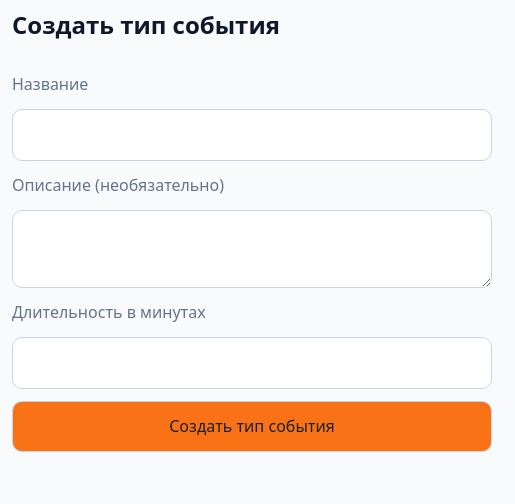
Test: handles failure 400 without confirmation or automatic retry, retaining input for a manual retry
The image size is (515, 504).
Type "Звонок" into the field labelled "Название" at (252, 135), box [12, 109, 492, 161]
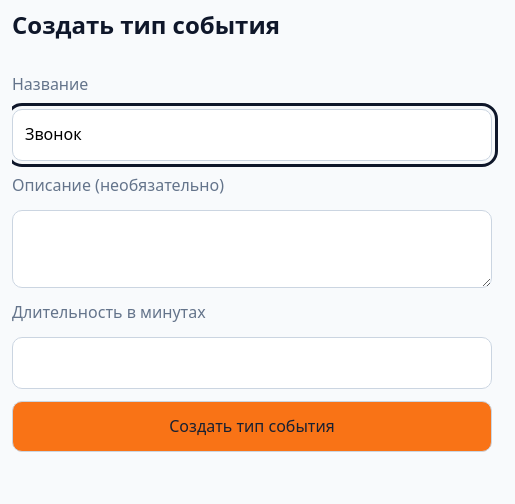
Type "Описание" into the text box labelled "Описание (необязательно)" at (252, 249), box [12, 210, 492, 288]
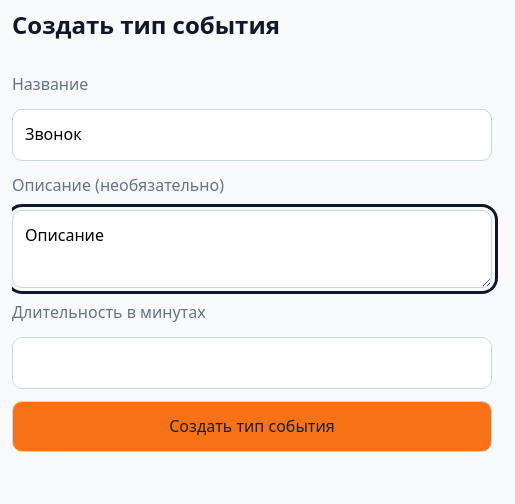
Type "30" into the number field labelled "Длительность в минутах" at (252, 363), box [12, 337, 492, 389]
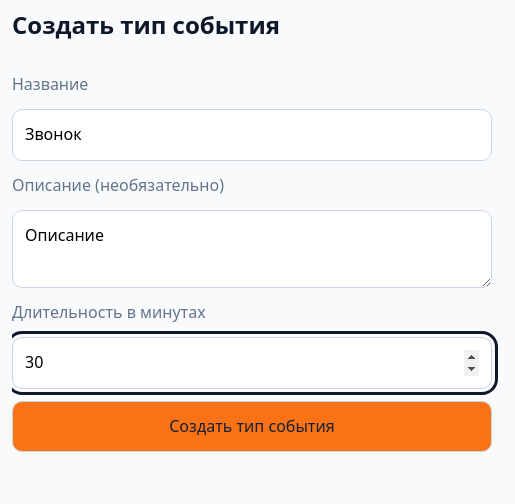
Click the button "Создать тип события" at (252, 427), box [12, 401, 492, 452]
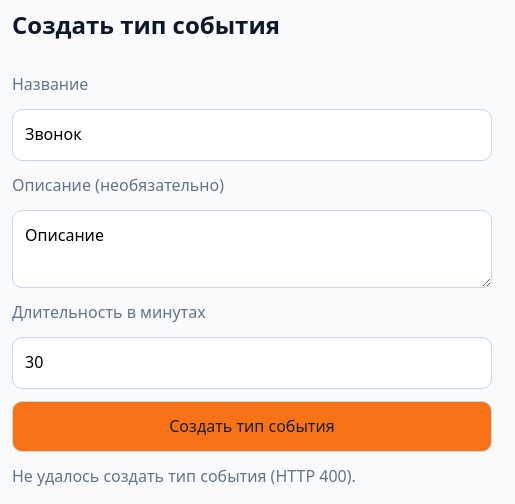
Result: the message reads "Не удалось создать тип события (HTTP 400)." at [12, 465, 356, 487]
Click the button "Создать тип события" at (252, 427), box [12, 401, 492, 452]
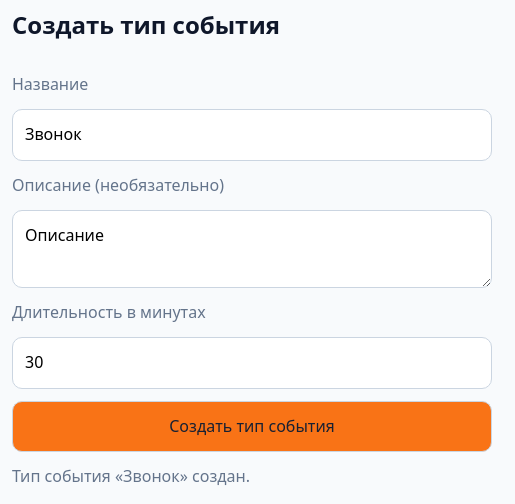
Result: the message reads "Тип события «Звонок» создан." at [12, 465, 250, 487]
